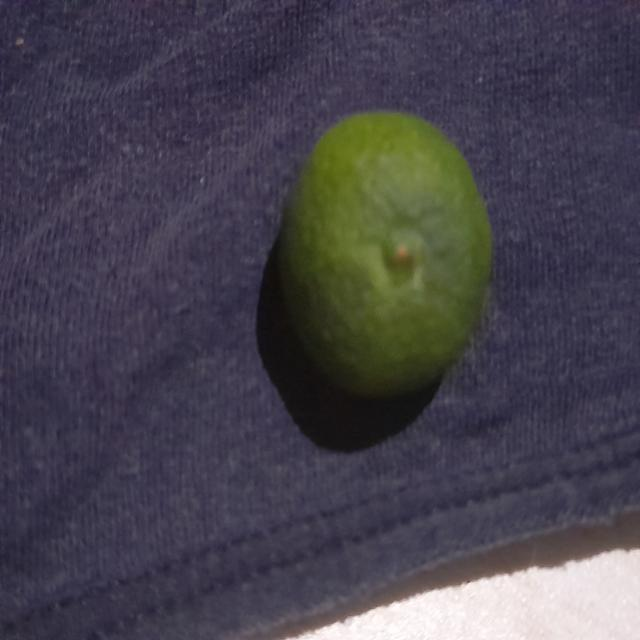heathy: (274, 101, 498, 405)
